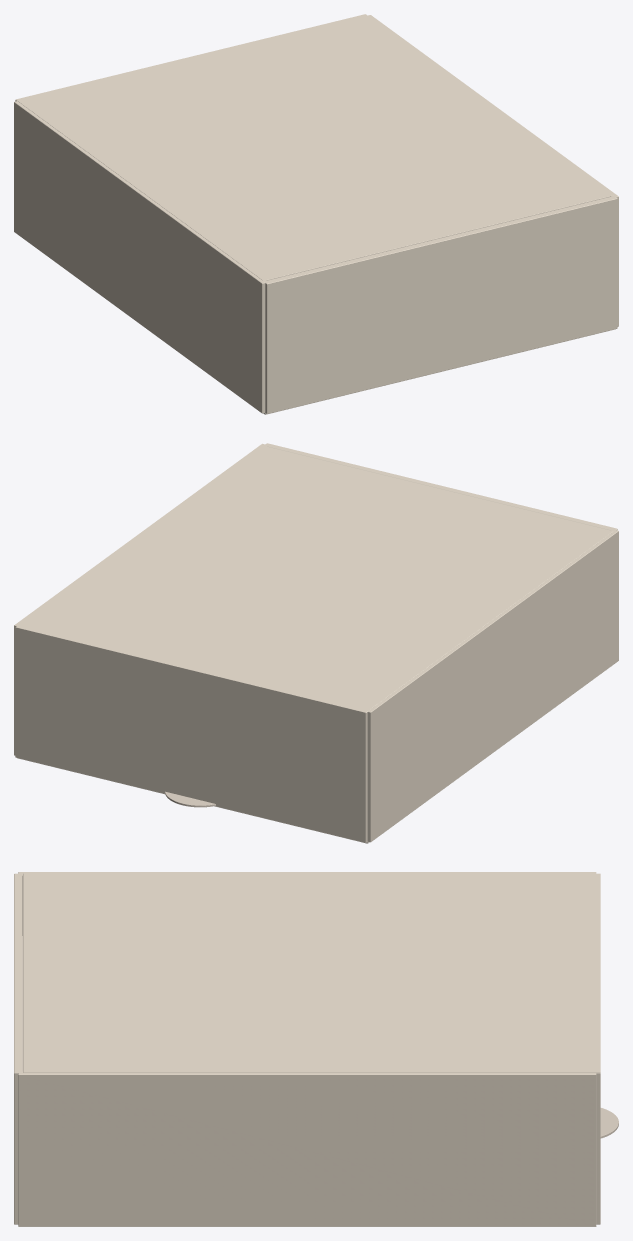
The model's file is fanar_interior.glb.
3 renders of one model, top to bottom at view 1: azimuth 30°, elevation 25°; view 2: azimuth 150°, elevation 25°; view 3: azimuth 270°, elevation 25°, orthographic. The views are drawn at different scales.
Parts seen in each view (by area): view 1: Ceiling_Main_Surface, Back_Wall, Left_Wall, Right_Wall; view 2: Ceiling_Main_Surface, Mihrab_Front_Wall, Left_Wall, Back_Wall, Right_Wall; view 3: Ceiling_Main_Surface, Right_Wall, Back_Wall, Left_Wall, Mihrab_Front_Wall, Interior_Floor.
Boxes of the visible parts, <box> form: Ceiling_Main_Surface: <box>15,14,612,280</box>; Back_Wall: <box>264,196,617,413</box>; Left_Wall: <box>14,101,265,413</box>; Right_Wall: <box>368,15,618,326</box>; Ceiling_Main_Surface: <box>15,446,613,712</box>; Mihrab_Front_Wall: <box>15,627,367,842</box>; Left_Wall: <box>367,529,618,842</box>; Back_Wall: <box>264,443,617,530</box>; Right_Wall: <box>14,443,266,755</box>; Ceiling_Main_Surface: <box>23,873,600,1072</box>; Right_Wall: <box>18,1071,596,1226</box>; Back_Wall: <box>14,873,22,1224</box>; Left_Wall: <box>18,872,596,935</box>; Mihrab_Front_Wall: <box>596,1073,600,1224</box>; Interior_Floor: <box>18,1226,596,1226</box>.
Size of the model in its own units: 31.55 by 11.18 by 39.75.
